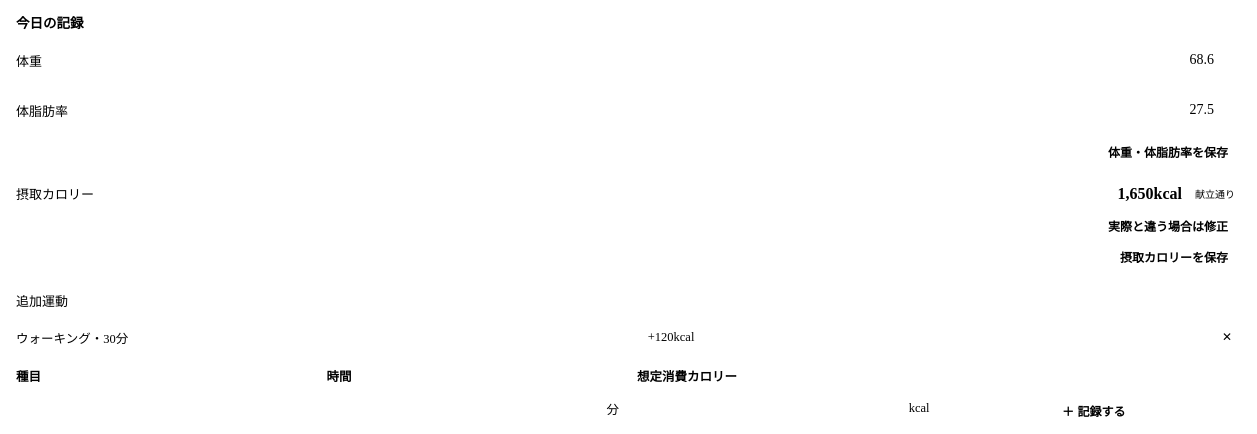
it: DailyLogPanel › removes an exercise entry via removeExerciseEntry with the date and id, and it disappears from the list (Requirement 10.4)
Expected: the text "ウォーキング・30分" is shown, x1=16 y1=328 x2=128 y2=346
What coordinates should you click on to do the following:
click the button named "ウォーキングを削除"
I would click on:
 (1227, 337)
Its box is x1=1214 y1=324 x2=1240 y2=350.
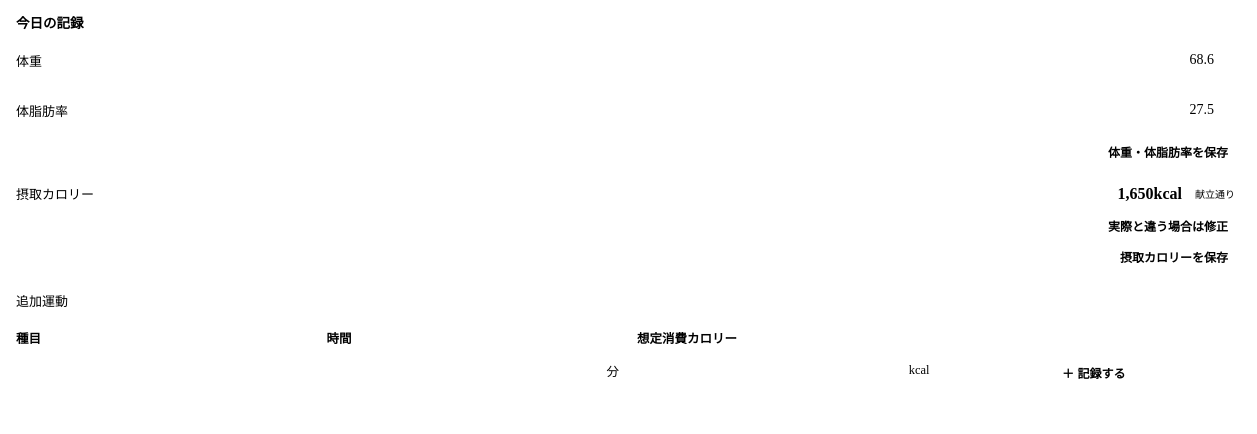
Expected: the text "ウォーキング・30分" is gone
